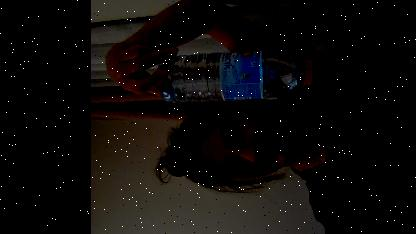Plastic Bottle: (159, 47, 315, 101)
